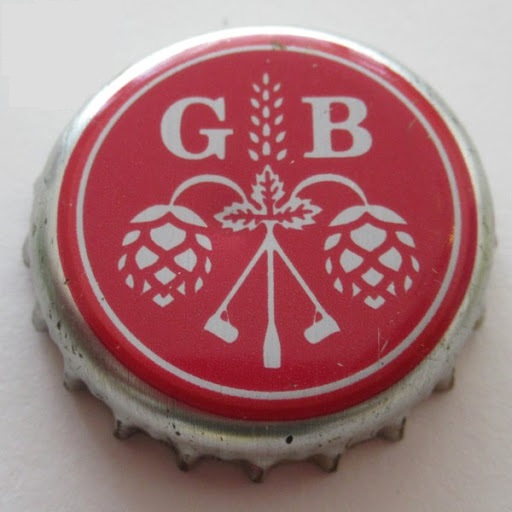grolsch: (23, 20, 502, 476)
